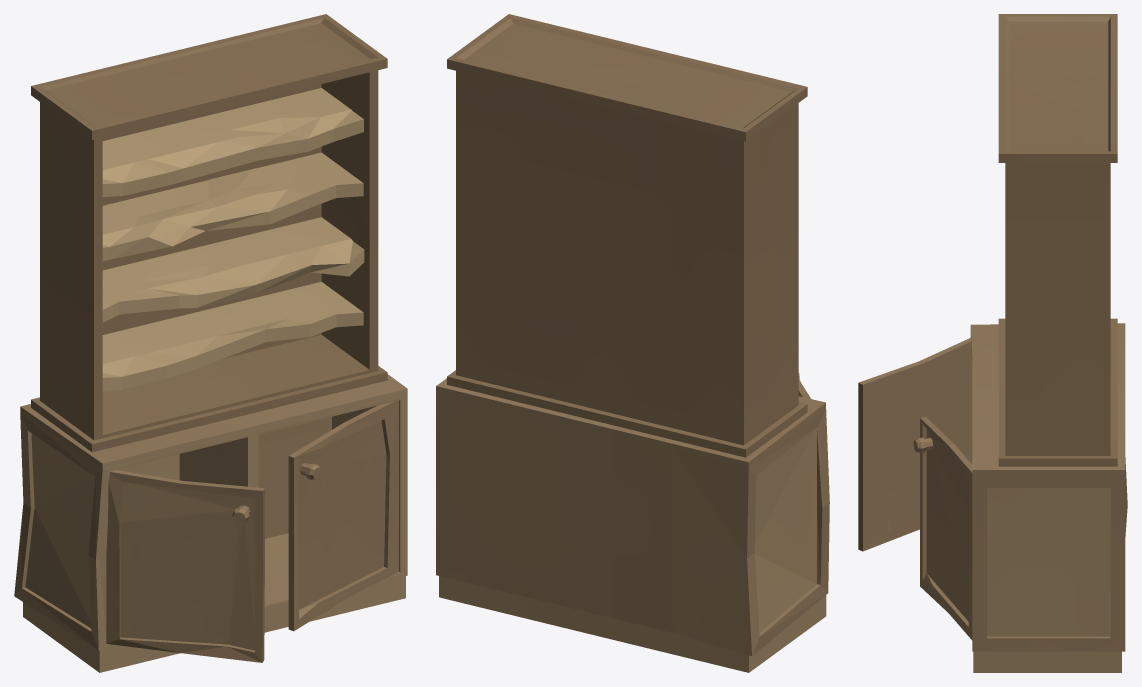
File: shelf_4_B.obj
3 views of the same model, side by side, from view 1: azimuth 30°, elevation 25°; view 2: azimuth 150°, elevation 25°; view 3: azimuth 270°, elevation 25° (orthographic). The views are drawn at different scales.
Visible parts, largest first — view 1: shelf_upper_B_Material, shelf_B_Material, shelf_door_B_Material, box_B_Material; view 2: shelf_upper_B_Material, box_B_Material; view 3: shelf_upper_B_Material, box_B_Material, shelf_door_B_Material.
Boxes of the visible parts, <box> form: shelf_upper_B_Material: <box>31,14,387,452</box>; shelf_B_Material: <box>102,88,364,390</box>; shelf_door_B_Material: <box>106,400,398,662</box>; box_B_Material: <box>14,374,407,672</box>; shelf_upper_B_Material: <box>447,14,807,457</box>; box_B_Material: <box>436,378,829,672</box>; shelf_upper_B_Material: <box>998,14,1117,466</box>; box_B_Material: <box>970,323,1127,672</box>; shelf_door_B_Material: <box>858,338,972,640</box>.
Bounding box in the file's own units: 1.08 × 1.75 × 0.8255.
